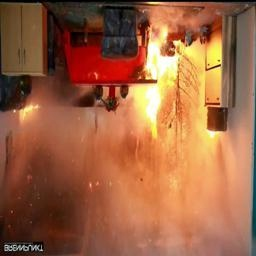fire: (132, 32, 214, 154)
